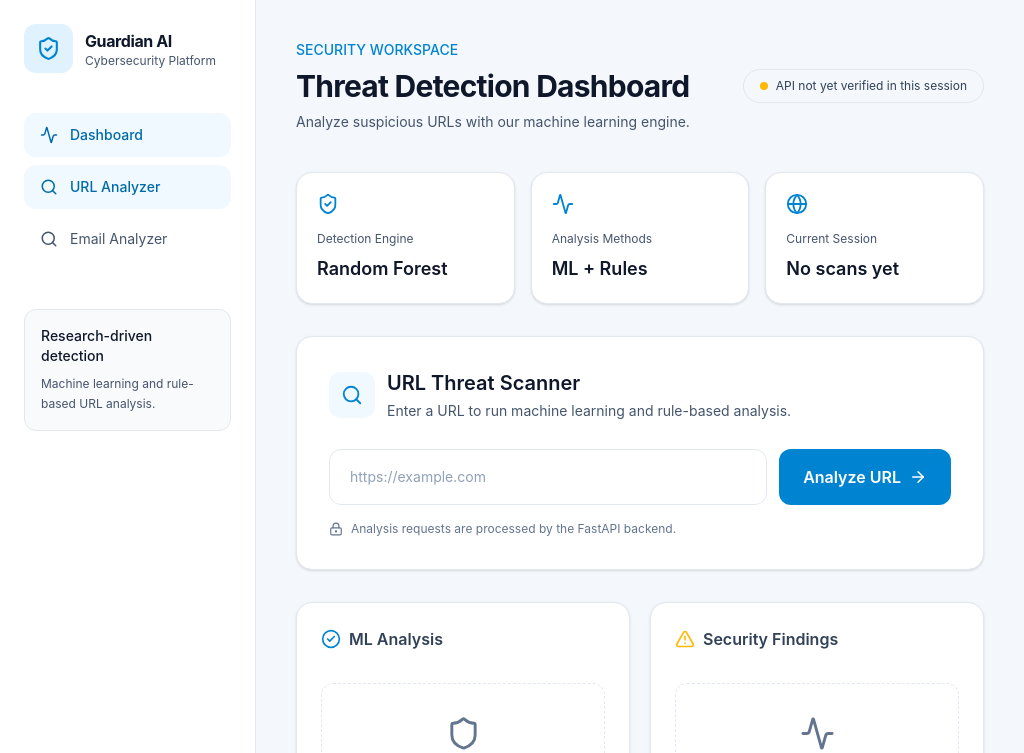
Test: Asynchronous request isolation › ignores an outdated URL response after switching to Email mode
The image size is (1024, 753).
Type "https://example.com/login" into the field named "URL to analyze" at (548, 477), box top-left (329, 449), bottom-right (767, 505)
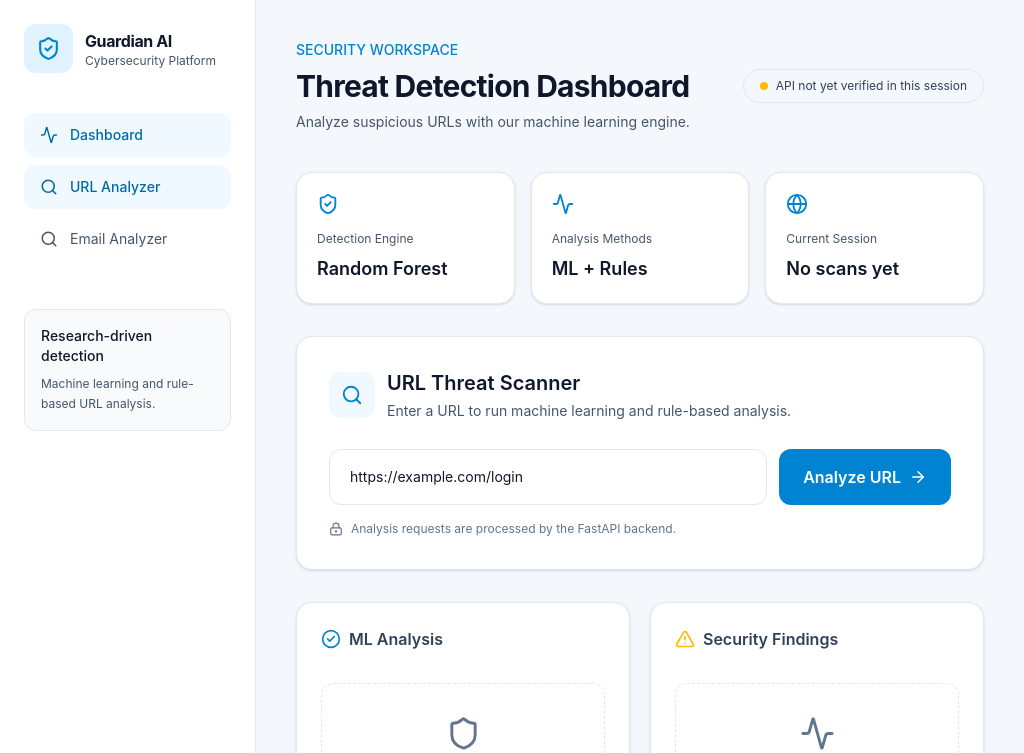
Click the button "Analyze URL" at (865, 477), box top-left (779, 449), bottom-right (951, 505)
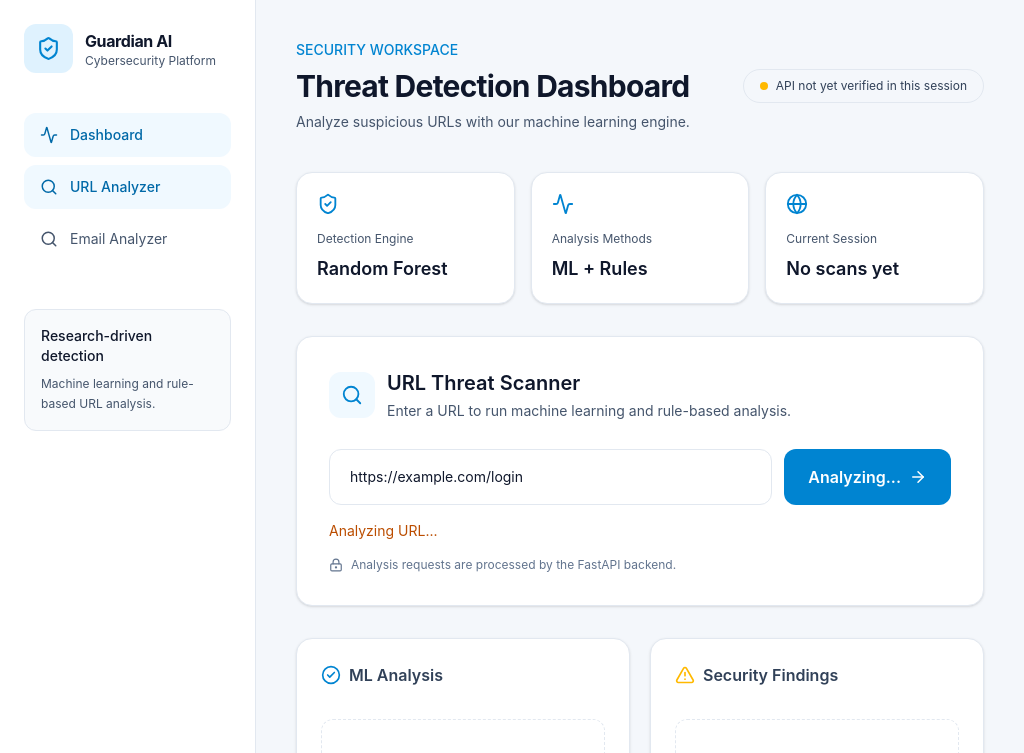
Click the button "Email Analyzer" at (128, 239), box top-left (24, 217), bottom-right (231, 261)
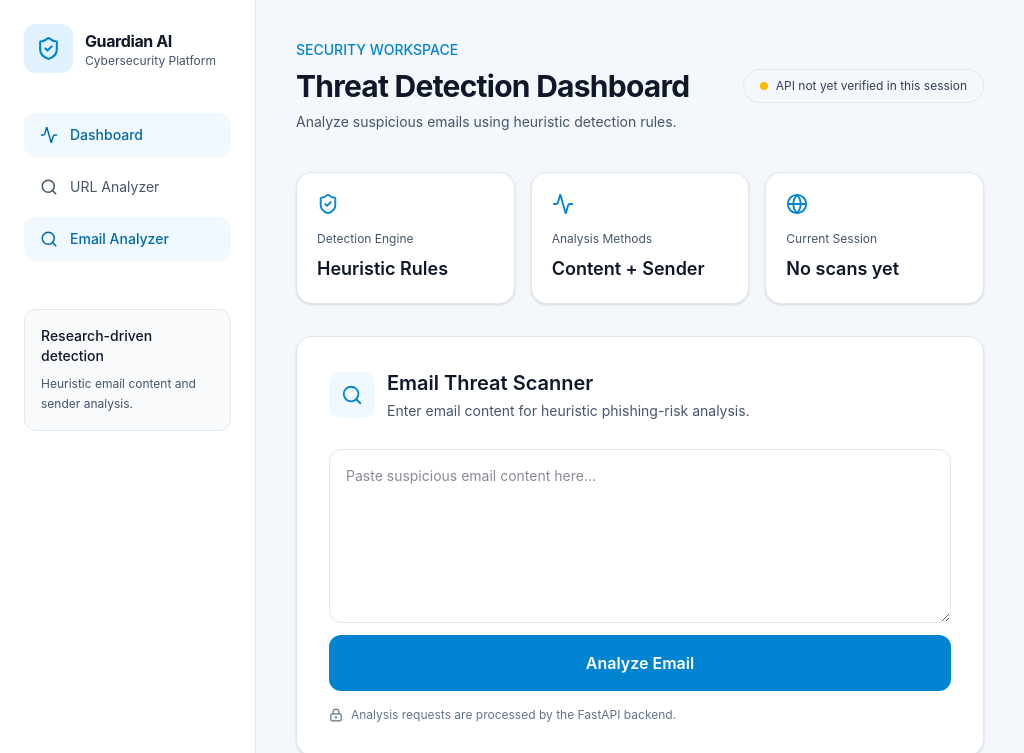
Result: the text box named "Email text to analyze" is shown at top-left (329, 449), bottom-right (951, 623)
Result: the message "Analyzing URL..." is gone
